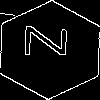Z: (25, 25, 78, 58)
